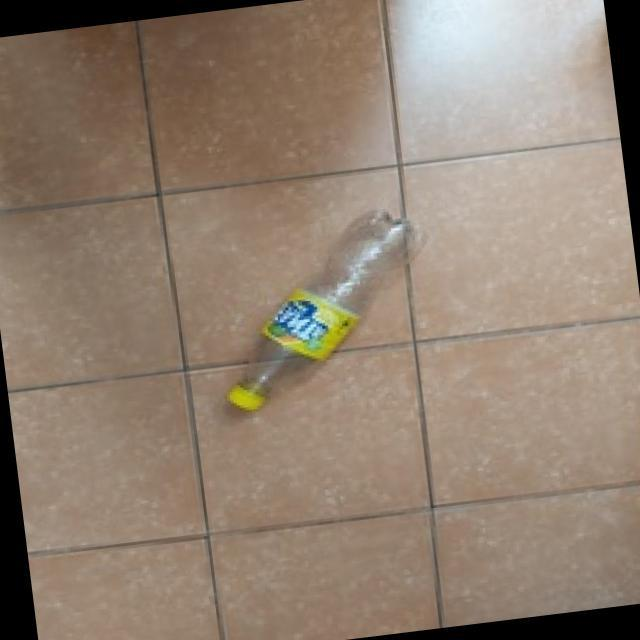good: (202, 200, 436, 426)
